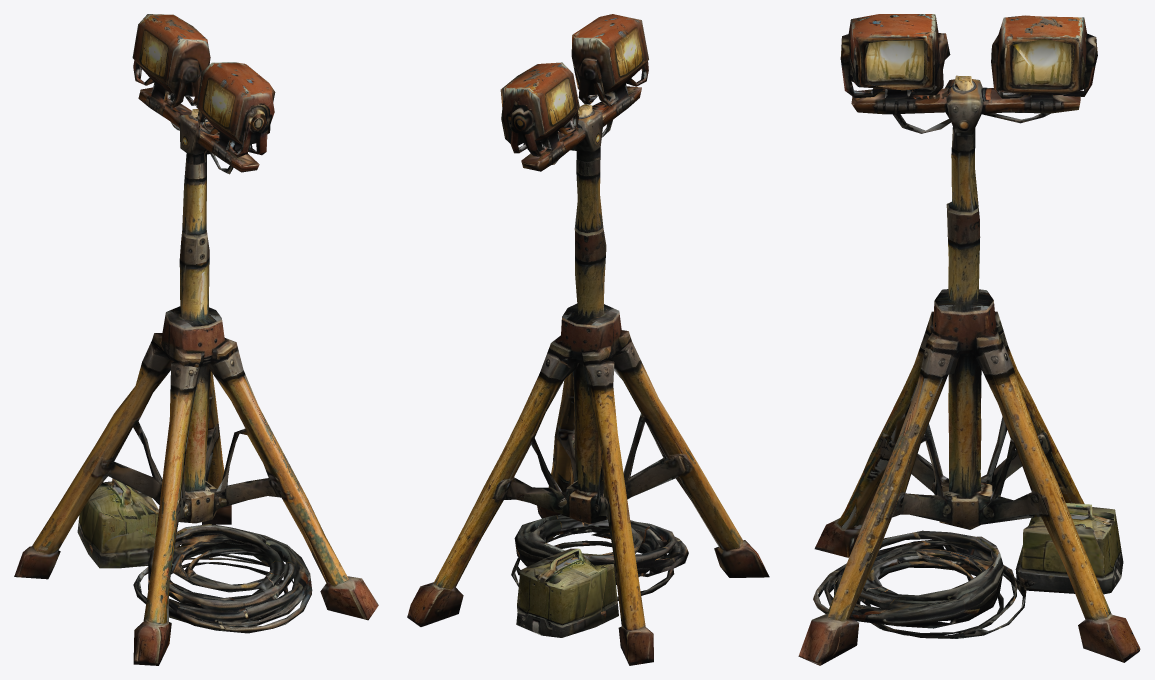
Rendered from EX_Exc_WorkLight.fbx.
The picture shows the model from 3 angles, left to right: view 1: azimuth 30°, elevation 25°; view 2: azimuth 150°, elevation 25°; view 3: azimuth 270°, elevation 25°; orthographic projection. The views are drawn at different scales.
Parts seen in each view (by area): view 1: texture_mapping; view 2: texture_mapping; view 3: texture_mapping.
Boxes of the visible parts, x1,y1,x2,y2 form: texture_mapping: [14, 14, 378, 665]; texture_mapping: [407, 14, 769, 665]; texture_mapping: [798, 14, 1140, 665].
Size of the model in its own units: 0.4661 by 0.5213 by 1.
Materials: 1 (1 with a texture image).
